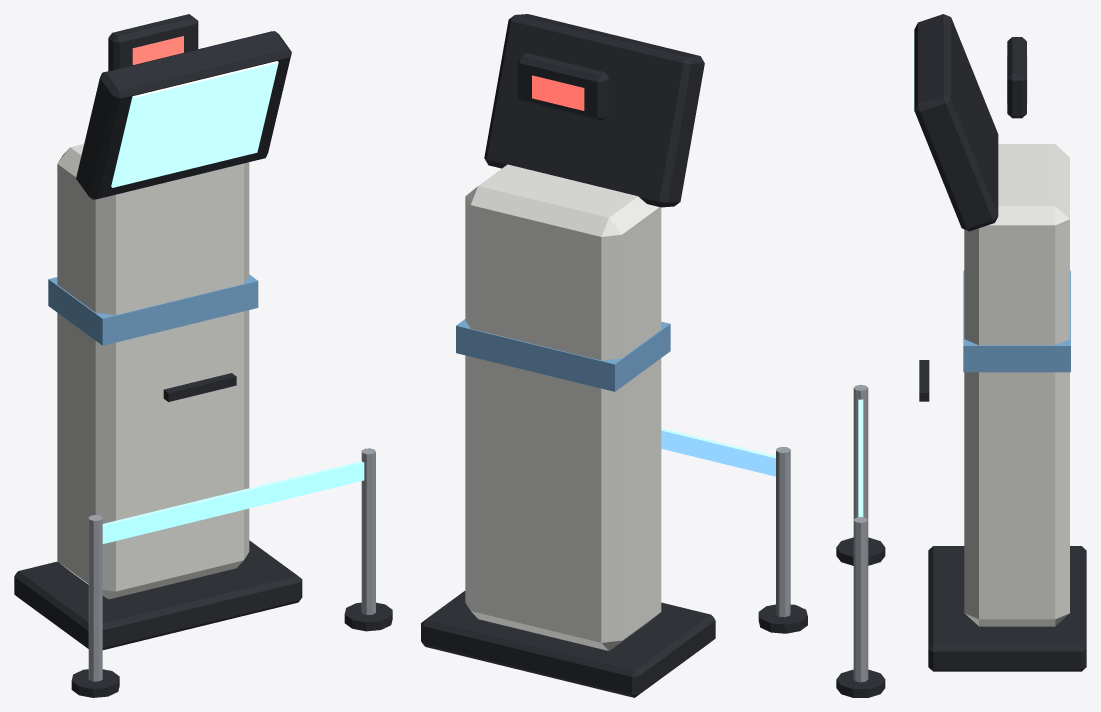
Rendered from selfservice_p1_3.glb.
3 renders of one model, left to right at view 1: azimuth 30°, elevation 25°; view 2: azimuth 150°, elevation 25°; view 3: azimuth 270°, elevation 25°, orthographic. The views are drawn at different scales.
Visible parts, largest first — view 1: selfservice_p1_3_mesh; view 2: selfservice_p1_3_mesh; view 3: selfservice_p1_3_mesh.
Part boxes in pixels (<box>): selfservice_p1_3_mesh: <box>14,14,392,697</box>; selfservice_p1_3_mesh: <box>421,14,807,697</box>; selfservice_p1_3_mesh: <box>836,14,1086,697</box>.
Size of the model in its own units: 0.7351 by 1.28 by 0.512.
